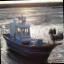fishing boat: (0, 11, 63, 64)
